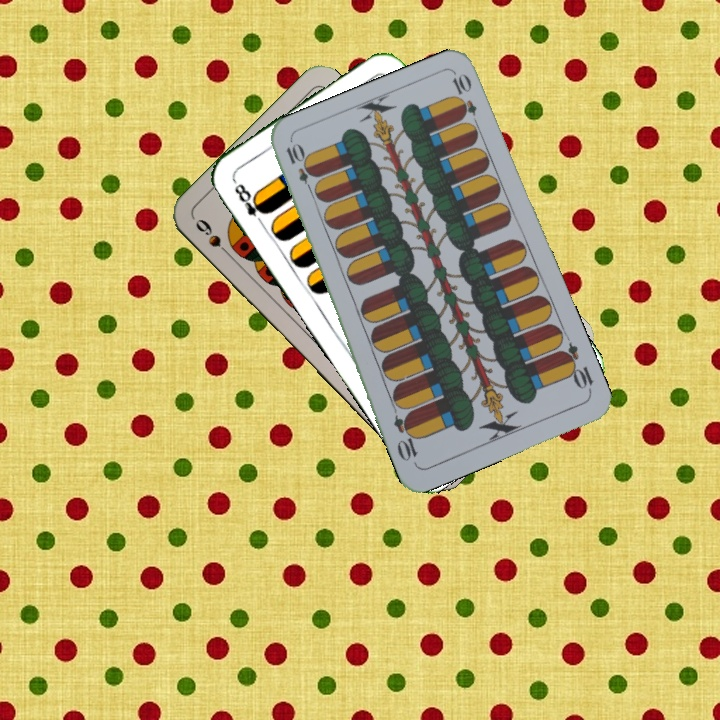E10: (555, 339, 596, 396), (281, 140, 318, 197)
E8: (229, 176, 271, 229)
S9: (191, 215, 237, 262)
